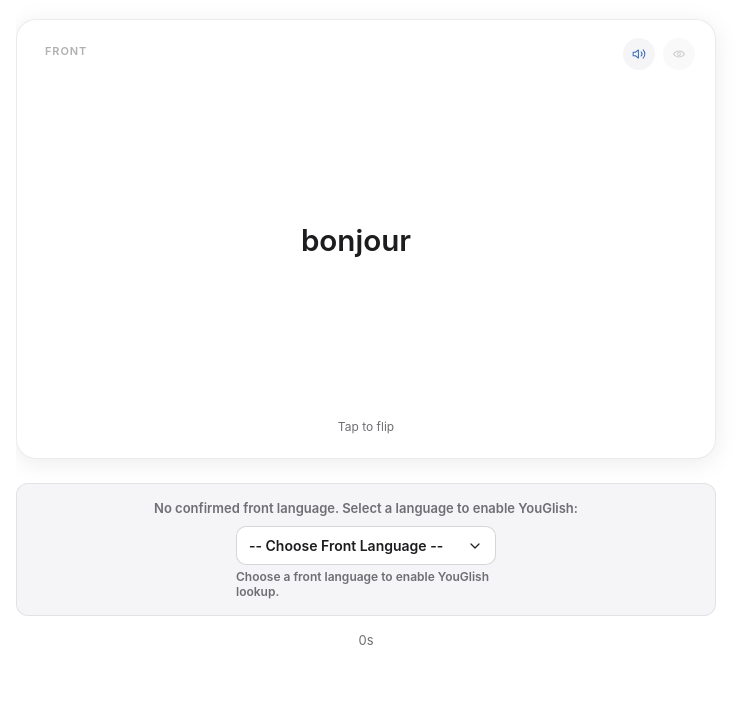
stale ratings show an error without refreshing the queue
This screenshot has width=736, height=725.
Click the button with aria-label "Flashcard".
click(366, 239)  # box 16,19 -> 716,459
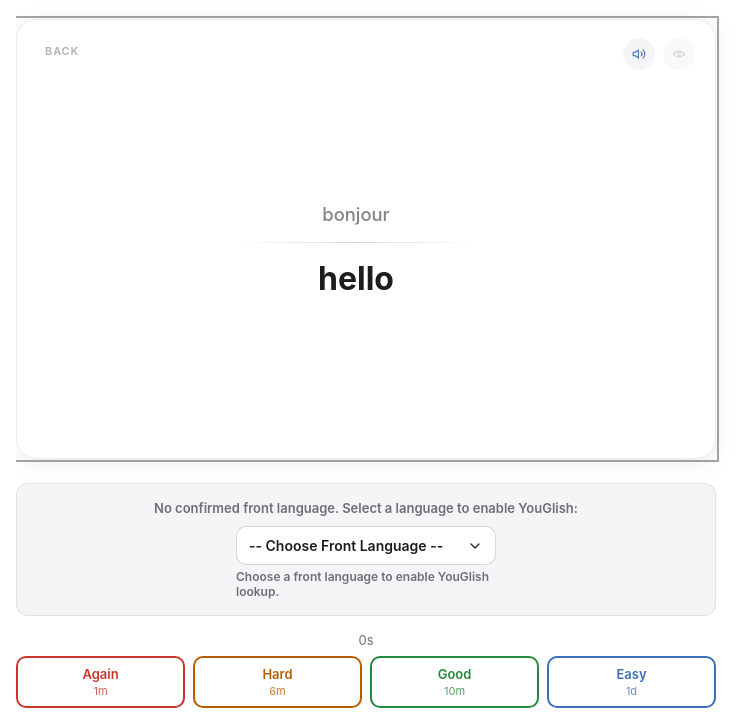
Click the button "Good 10m".
click(454, 682)  # box 370,656 -> 539,708
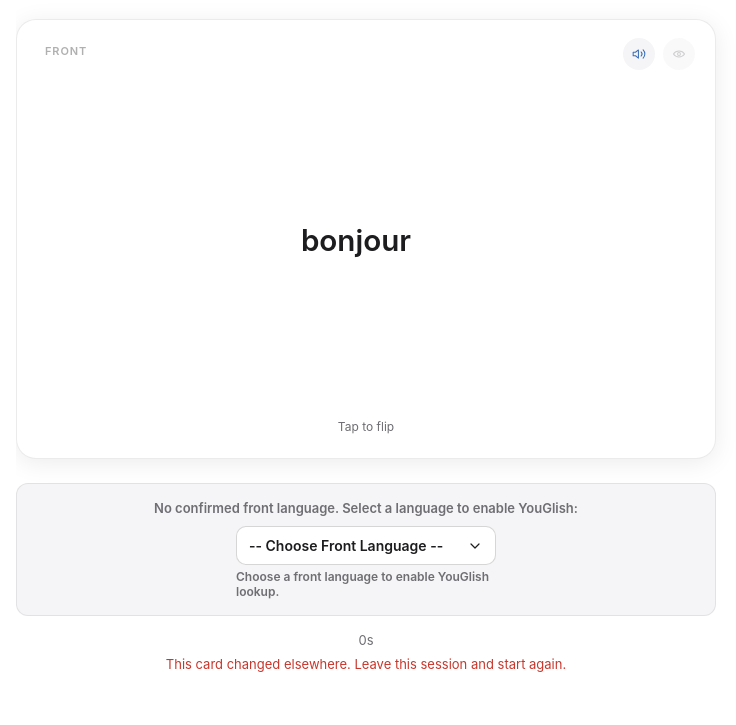
Expected: the message reads "This card changed elsewhere. Leave this session and start again.", 166,656 -> 566,672
